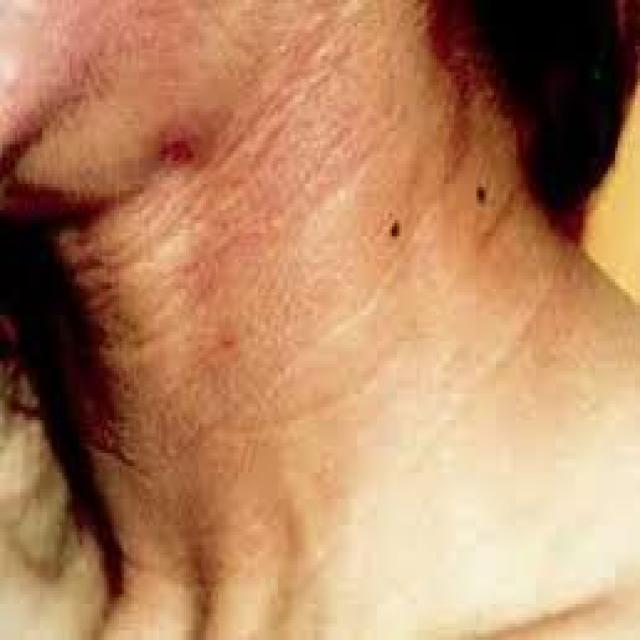Acanthosis Nigricans: (48, 4, 635, 640)
